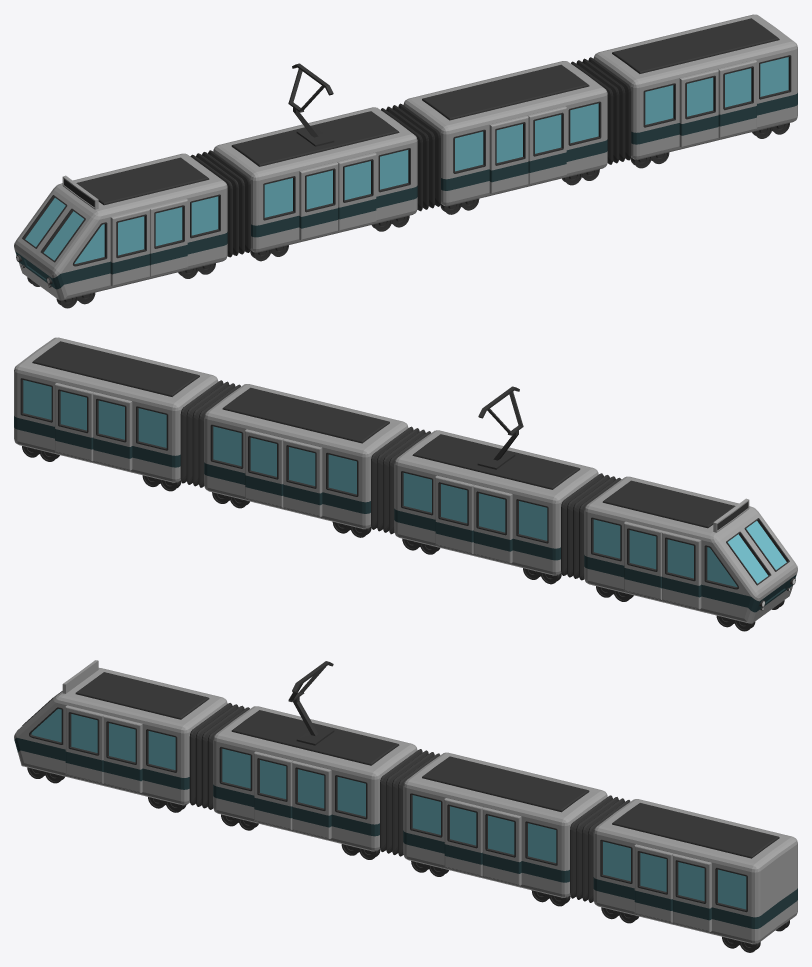
Rendered from TrainNew.fbx.
3 views of the same model, one above another, from view 1: azimuth 30°, elevation 25°; view 2: azimuth 150°, elevation 25°; view 3: azimuth 330°, elevation 25° (orthographic).
Visible parts, largest first — view 1: Connection; view 2: Connection; view 3: Connection.
Part boxes in pixels (x1,y1,x2,y2): Connection: [14, 14, 797, 308]; Connection: [14, 337, 797, 631]; Connection: [14, 660, 797, 952].
Size of the model in its own units: 2970 by 600 by 333.
